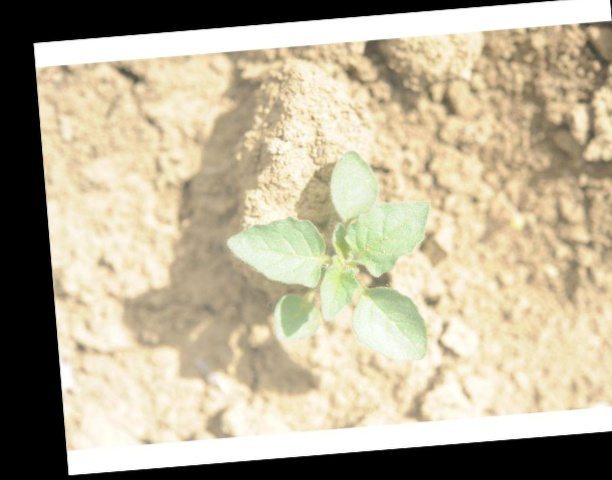nightshade: (228, 148, 435, 365)
